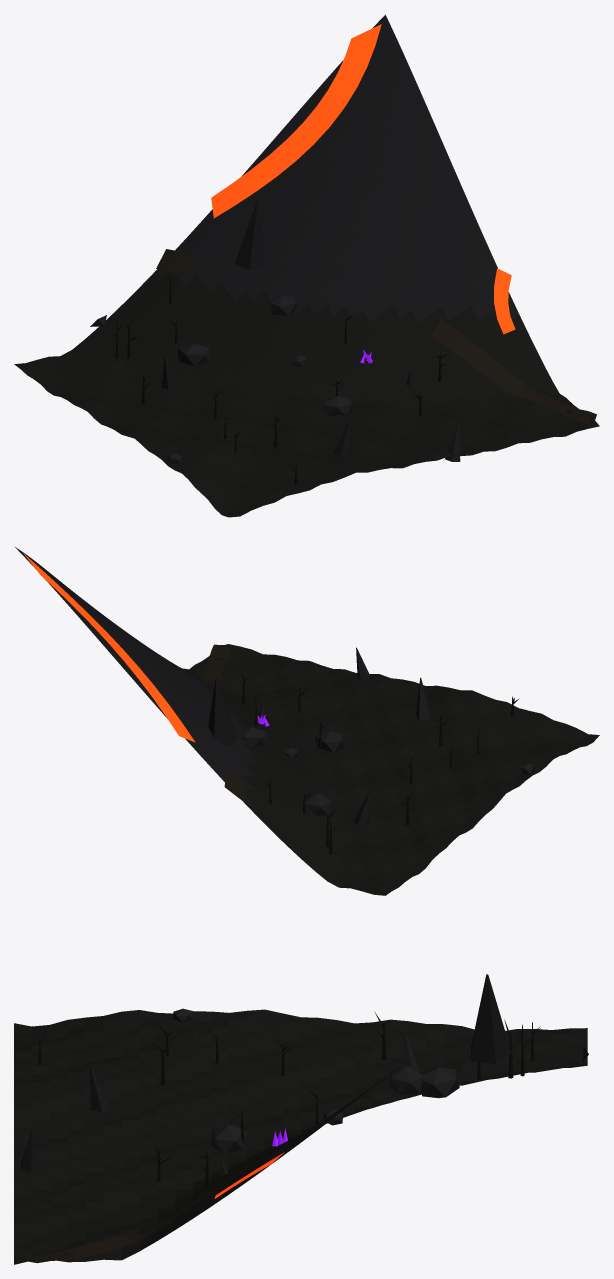
The model's file is chunk-5-2.glb.
3 renders of one model, top to bottom at view 1: azimuth 30°, elevation 25°; view 2: azimuth 150°, elevation 25°; view 3: azimuth 270°, elevation 25°, orthographic. The views are drawn at different scales.
Visible parts, largest first — view 1: Ash_Ground, Mountain_Rock, Lava, Dirt_Road, Dark_Rock, Dead_Wood; view 2: Ash_Ground, Mountain_Rock, Dark_Rock, Lava, Dead_Wood, Dirt_Road; view 3: Ash_Ground, Dark_Rock, Mountain_Rock, Dead_Wood, Dirt_Road.
Part boxes in pixels (x1,y1,x2,y2): Ash_Ground: (14,271,599,517); Mountain_Rock: (153,14,519,322); Lava: (211,24,515,334); Dirt_Road: (156,249,596,425); Dark_Rock: (90,295,460,463); Dead_Wood: (108,276,449,485); Ash_Ground: (176,644,599,895); Mountain_Rock: (14,546,257,804); Dark_Rock: (238,647,533,825); Lava: (23,553,195,742); Dead_Wood: (241,671,519,854); Dirt_Road: (195,644,245,800); Ash_Ground: (14,1009,587,1264); Dark_Rock: (20,1008,588,1176); Mountain_Rock: (229,974,511,1194); Dead_Wood: (38,1011,540,1188); Dirt_Road: (16,1154,268,1263).
Size of the model in its own units: 81.69 by 54.14 by 81.71.
